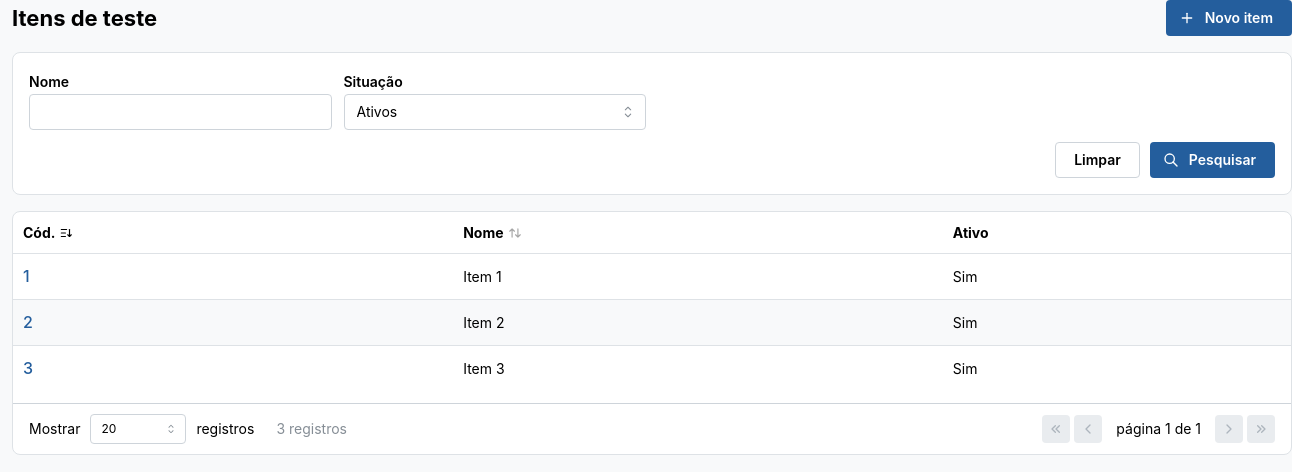
Test: <Listagem> › filtros vão para a URL ao pesquisar (Enter) e Limpar restaura o padrão mantendo a ordenação
Check: the text "Item 1" is shown, box [453,254,943,300]
Type "agua" into the field labelled "Nome". click: point(180, 112)
box: [29,94,332,130]
Then press Enter
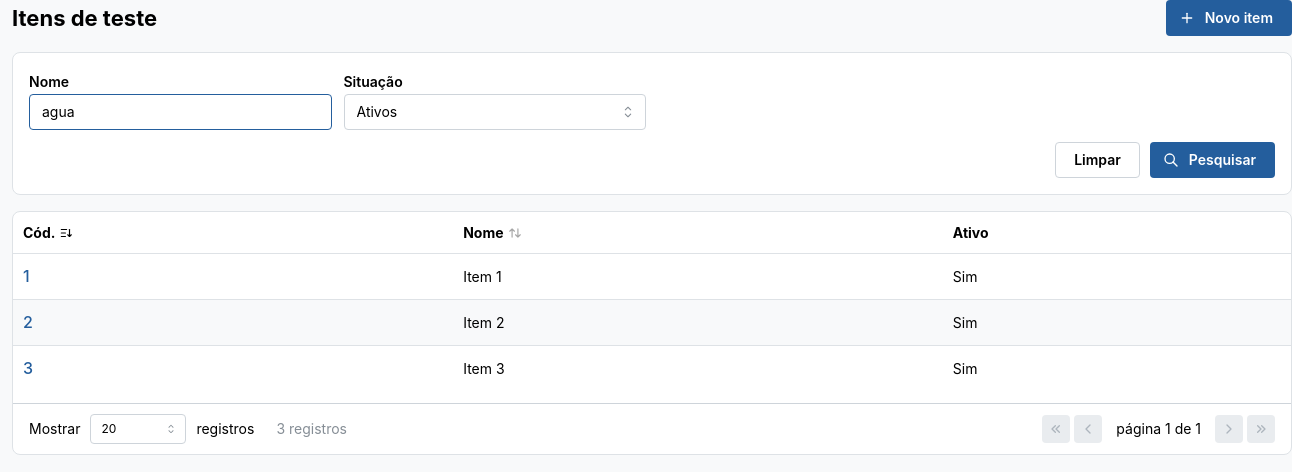
Click the button "Limpar". click: point(1098, 160)
box: [1055,142,1140,178]
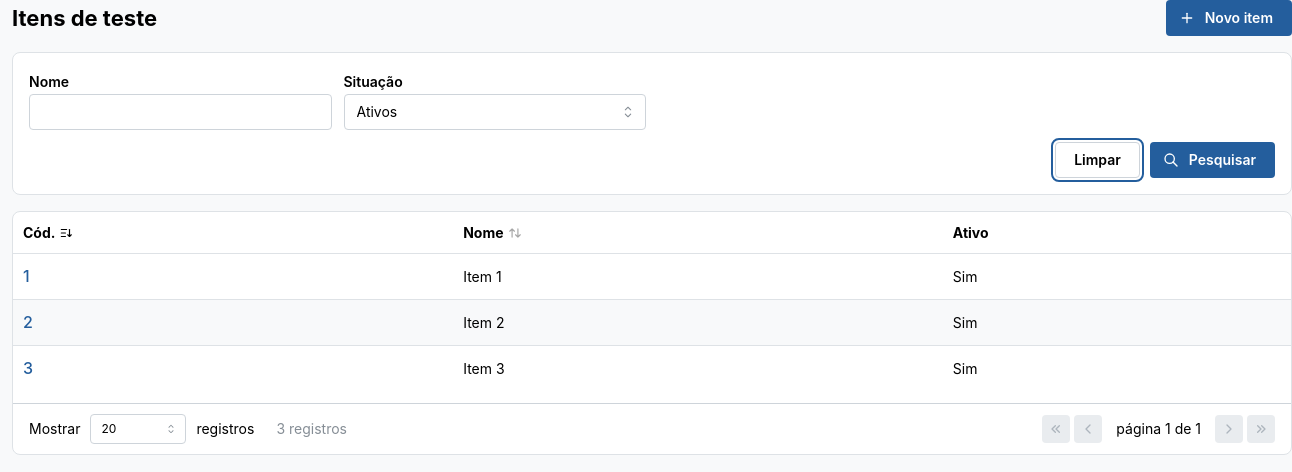
Check: the field labelled "Nome" is empty, box [29,94,332,130]
